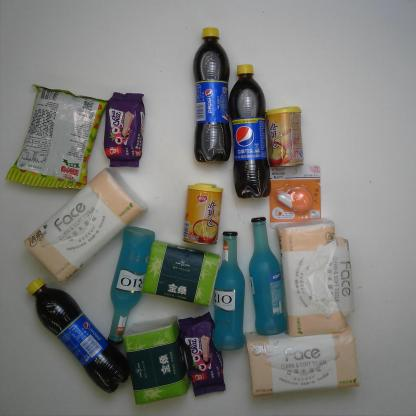Alcohol: (107, 226, 156, 344), (249, 216, 289, 336), (212, 230, 245, 352)
Canned Food: (182, 182, 224, 245), (265, 106, 304, 168)
Dessert: (178, 311, 227, 398), (103, 91, 146, 169)
Drink: (25, 277, 133, 394), (229, 64, 271, 198), (192, 26, 232, 162)
Puffed Food: (5, 82, 109, 190)
Stationery: (269, 164, 322, 230)
Tissue: (22, 166, 148, 284), (278, 220, 354, 338), (243, 327, 360, 398), (122, 315, 191, 405), (142, 239, 221, 307)
